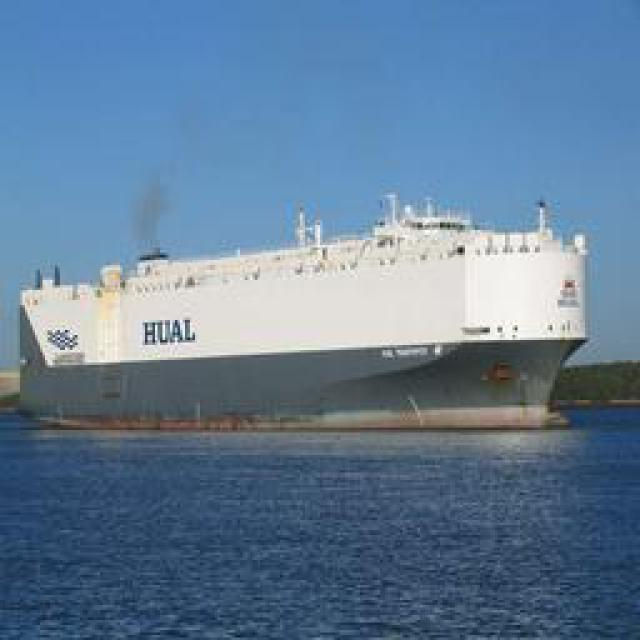Ship: (22, 166, 602, 424)
